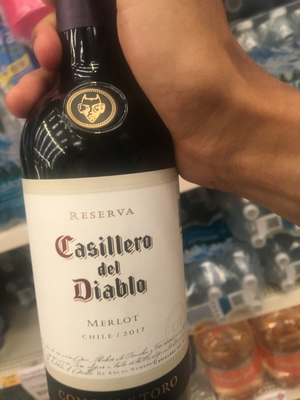casillero del diablo merlot: (22, 5, 193, 400)
